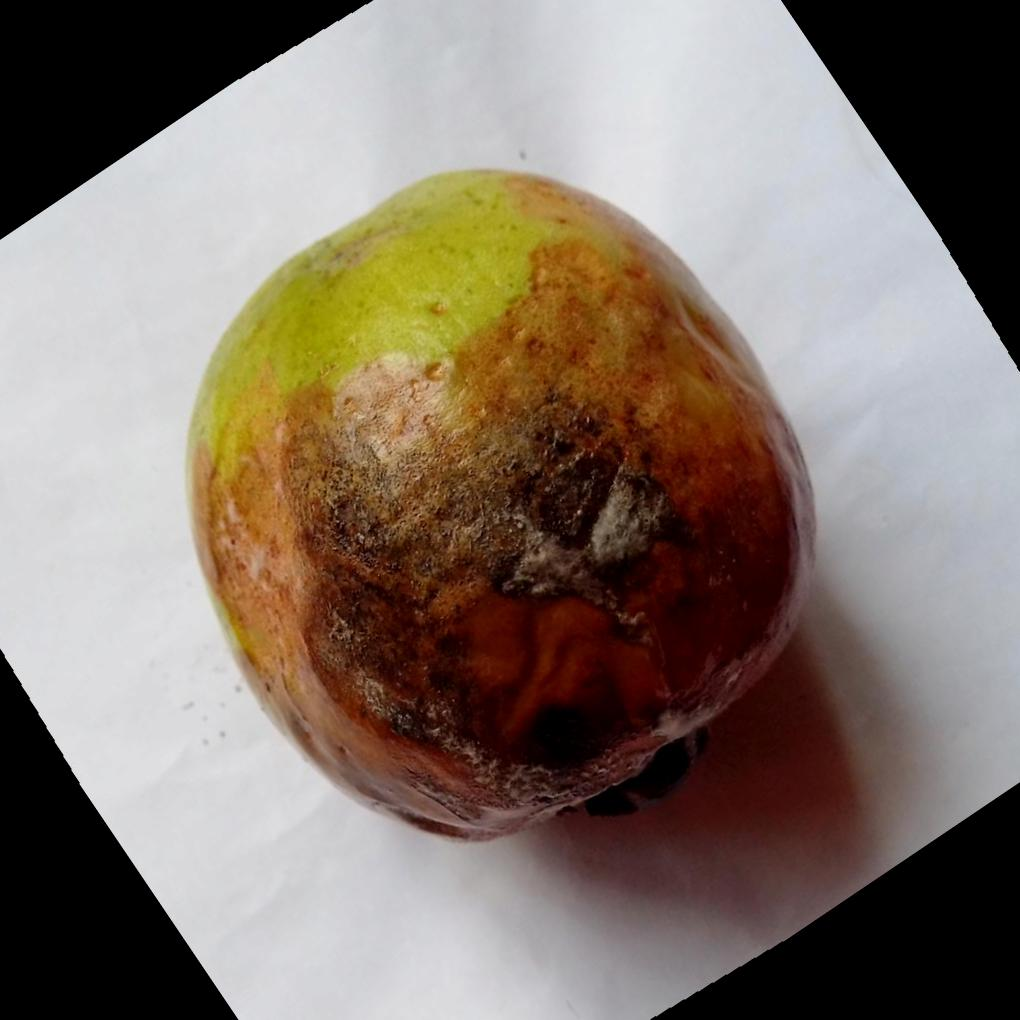FreshOrange: (184, 167, 819, 847)
